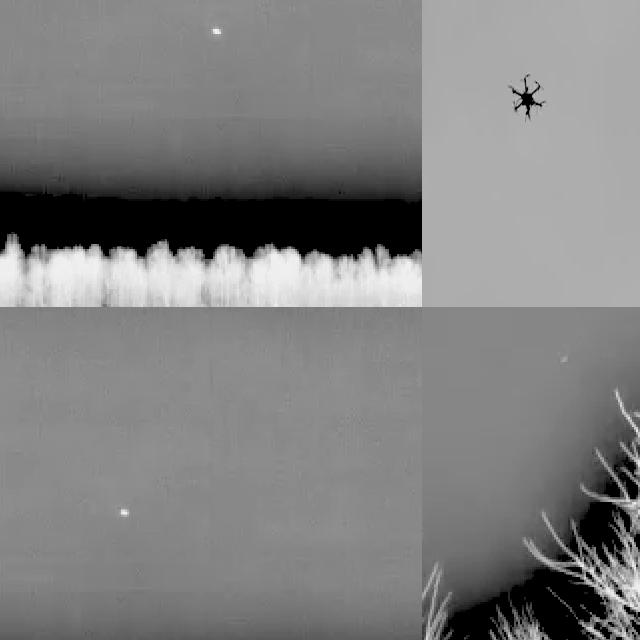0: (548, 347, 574, 377)
1: (106, 501, 136, 531), (200, 21, 226, 49)
drone: (507, 66, 549, 123)
